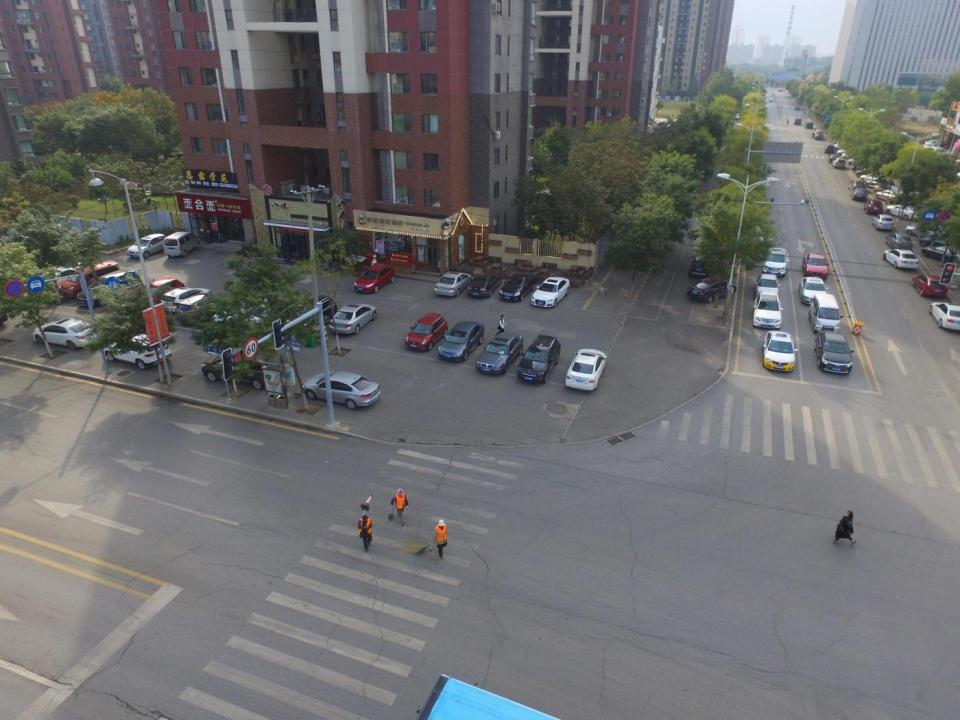car: (201, 345, 284, 388), (302, 367, 382, 408), (76, 268, 143, 308), (105, 329, 170, 368), (33, 319, 100, 354), (59, 261, 120, 299), (27, 261, 88, 298), (209, 294, 269, 331), (238, 299, 296, 337), (128, 278, 185, 314), (174, 290, 233, 324), (287, 295, 338, 334), (517, 336, 560, 382), (439, 320, 486, 362), (477, 333, 523, 375), (566, 348, 607, 391), (816, 330, 855, 375), (405, 314, 448, 353), (161, 285, 211, 316), (329, 302, 375, 335), (763, 330, 798, 372), (352, 262, 395, 294), (530, 277, 571, 308), (126, 232, 167, 262), (689, 280, 737, 304), (434, 271, 472, 297), (798, 276, 828, 308), (928, 300, 960, 330), (753, 294, 782, 327), (499, 274, 534, 301), (466, 271, 502, 297), (921, 242, 960, 265), (880, 247, 920, 269), (914, 274, 948, 298), (803, 252, 830, 280), (904, 223, 946, 241), (919, 235, 960, 253), (761, 246, 787, 274), (757, 274, 780, 304), (886, 204, 923, 222), (687, 255, 714, 278), (886, 233, 913, 252), (859, 174, 892, 188), (875, 190, 904, 204), (867, 178, 894, 192), (874, 214, 894, 230), (865, 200, 882, 217), (852, 188, 869, 204), (848, 180, 867, 194), (832, 157, 845, 169), (826, 151, 839, 163), (823, 143, 836, 154), (804, 121, 814, 129), (815, 132, 824, 140), (794, 117, 802, 126), (734, 114, 742, 121), (770, 98, 774, 102), (795, 106, 800, 109)
van: (808, 294, 842, 336), (165, 229, 198, 258)
